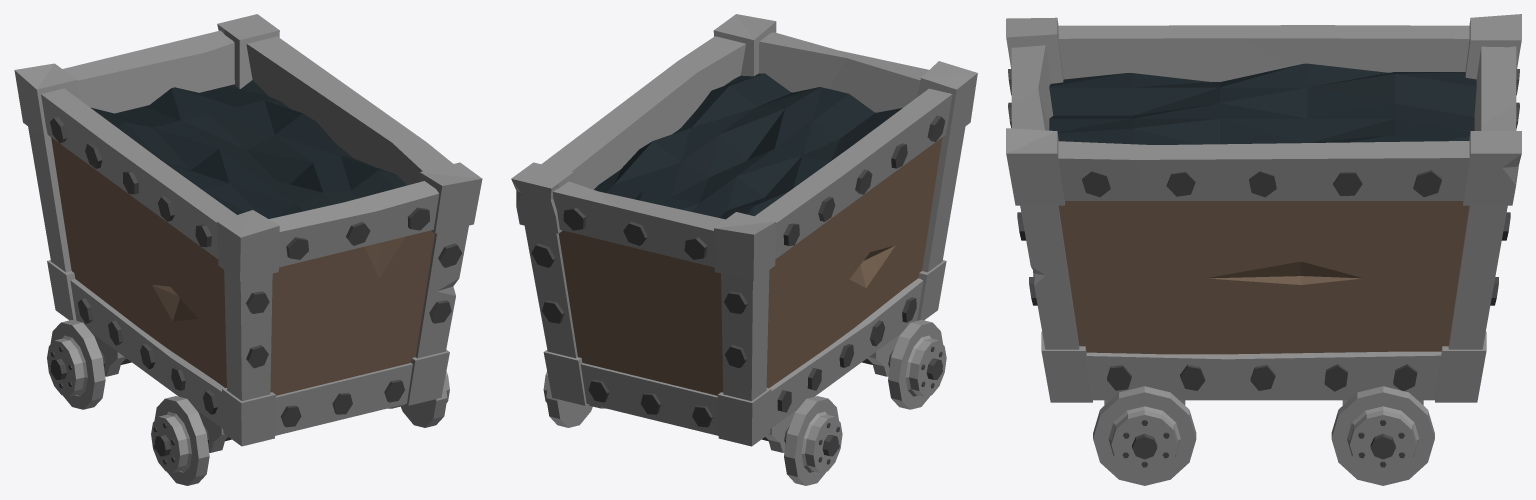
File: Mine_cart_with_coal.fbx
The picture shows the model from 3 angles, left to right: view 1: azimuth 30°, elevation 25°; view 2: azimuth 150°, elevation 25°; view 3: azimuth 270°, elevation 25°; orthographic projection. The views are drawn at different scales.
Parts seen in each view (by area): view 1: Mine_cart_with_coal; view 2: Mine_cart_with_coal; view 3: Mine_cart_with_coal.
Boxes of the visible parts, x1,y1,x2,y2 form: Mine_cart_with_coal: (14, 14, 482, 485); Mine_cart_with_coal: (511, 14, 977, 485); Mine_cart_with_coal: (1006, 14, 1521, 485).
Size of the model in its own units: 117 by 163 by 116.
